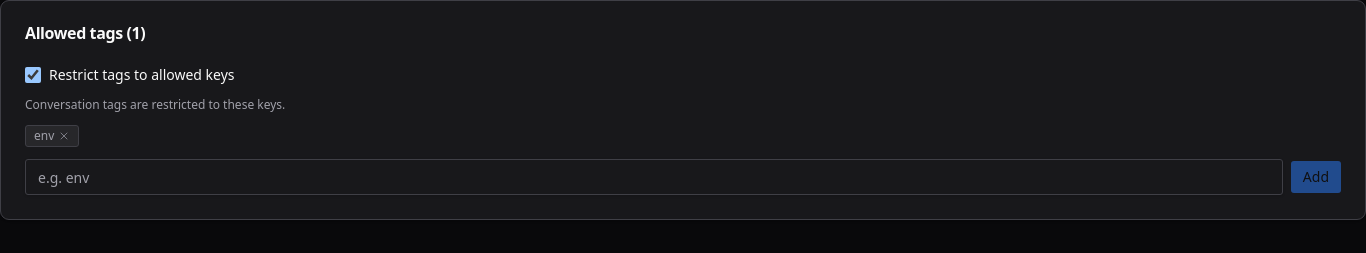
Test: AllowedTagsCard › keeps the loaded keys visible when a refresh fails, and says they may be stale
Check: the text "env" is shown, box x1=25 y1=125 x2=79 y2=147
Type "team" into the field named "New tag key" at (654, 177), box x1=25 y1=159 x2=1283 y2=195
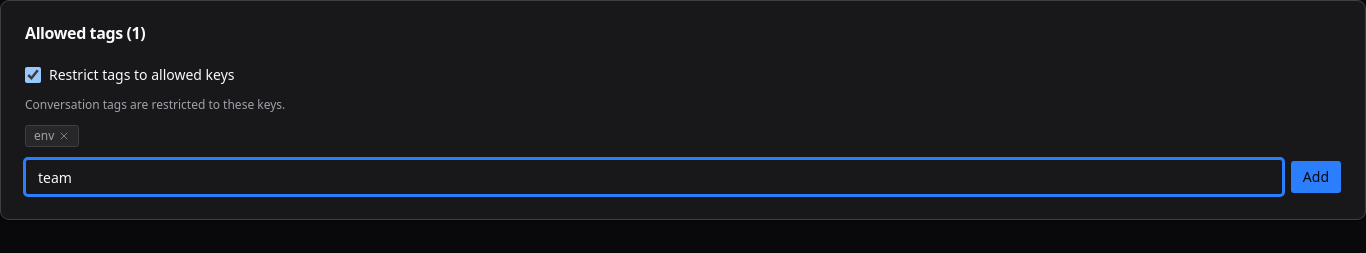
Click the button "Add" at (1316, 177), box x1=1291 y1=161 x2=1341 y2=193
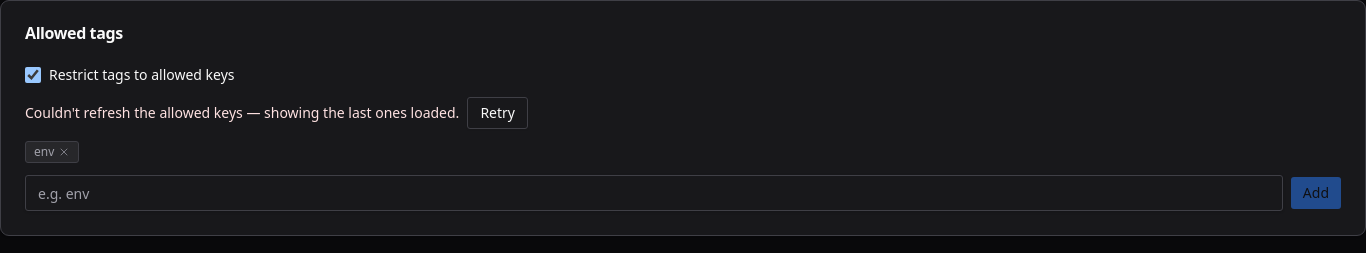
Check: the text "env" is shown, box x1=25 y1=141 x2=79 y2=163
Check: the text "couldn.t refresh the allowed keys" is shown, box x1=25 y1=103 x2=459 y2=122
